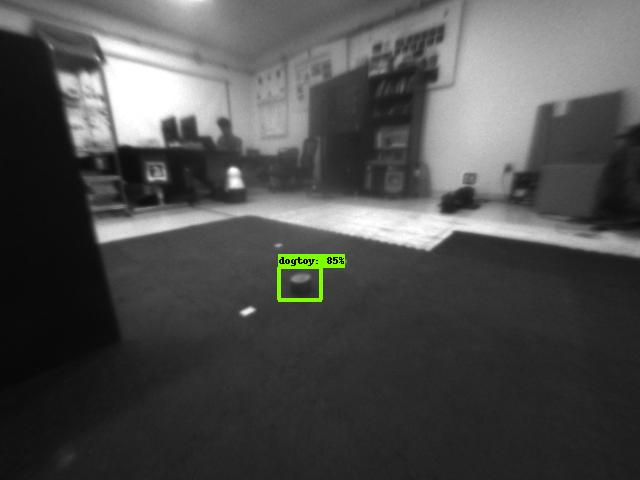dogtoy: (279, 268, 326, 294)
